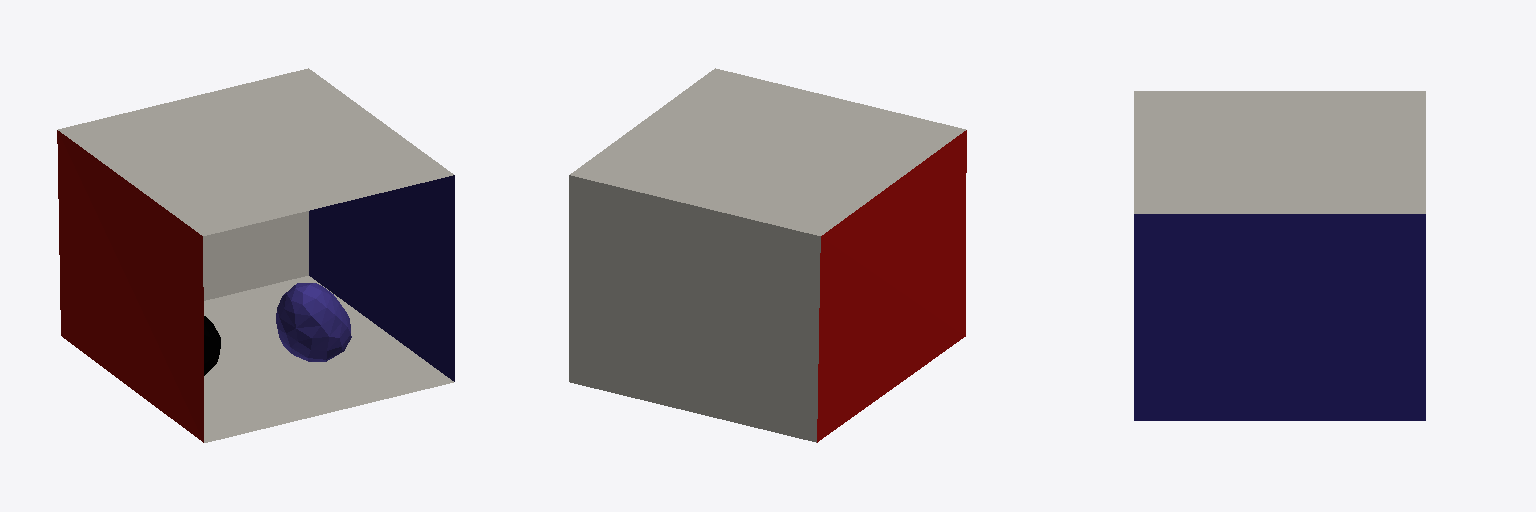
Rendered from CornellBox-Ellipsoid-462.obj.
3 views of the same model, side by side, from view 1: azimuth 30°, elevation 25°; view 2: azimuth 150°, elevation 25°; view 3: azimuth 270°, elevation 25° (orthographic).
Parts seen in each view (by area): view 1: ceiling, leftWall, floor, rightWall, backWall, leftSphere, rightSphere; view 2: backWall, ceiling, leftWall; view 3: rightWall, ceiling.
Part boxes in pixels (left/top/right/bottom): ceiling: left=58, top=68, right=453, bottom=235; leftWall: left=57, top=130, right=203, bottom=442; floor: left=204, top=276, right=453, bottom=442; rightWall: left=309, top=175, right=454, bottom=381; backWall: left=203, top=211, right=308, bottom=300; leftSphere: left=276, top=283, right=351, bottom=361; rightSphere: left=204, top=316, right=220, bottom=375; backWall: left=569, top=175, right=820, bottom=442; ceiling: left=570, top=68, right=965, bottom=235; leftWall: left=817, top=130, right=966, bottom=442; rightWall: left=1134, top=214, right=1425, bottom=420; ceiling: left=1134, top=91, right=1425, bottom=213.
Size of the model in its own units: 2.02 by 1.59 by 2.03.